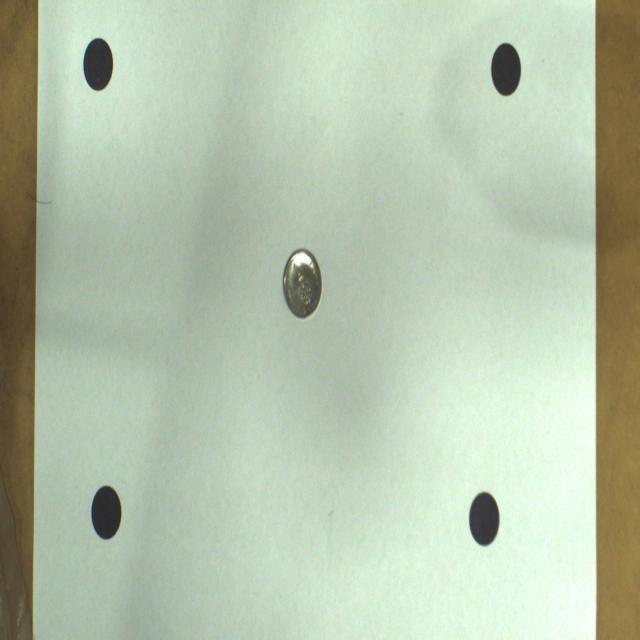space: (469, 493, 499, 547), (491, 42, 521, 96), (91, 487, 121, 540), (84, 38, 112, 91)
tail1bath: (282, 249, 321, 318)
